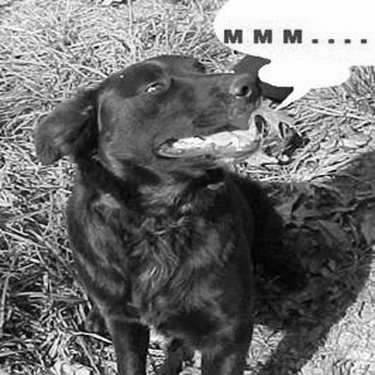dog: (21, 43, 313, 373)
